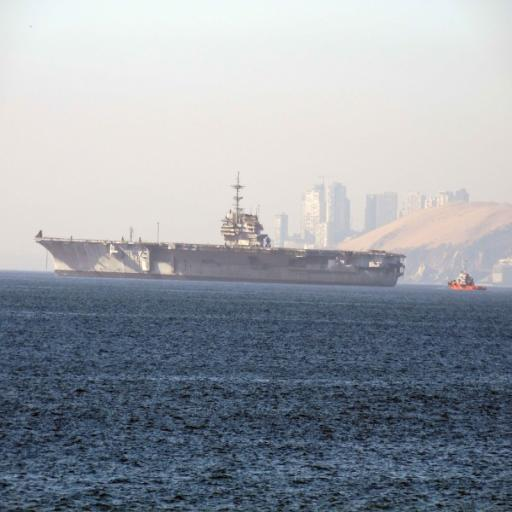Portanaves: (34, 171, 409, 290)
